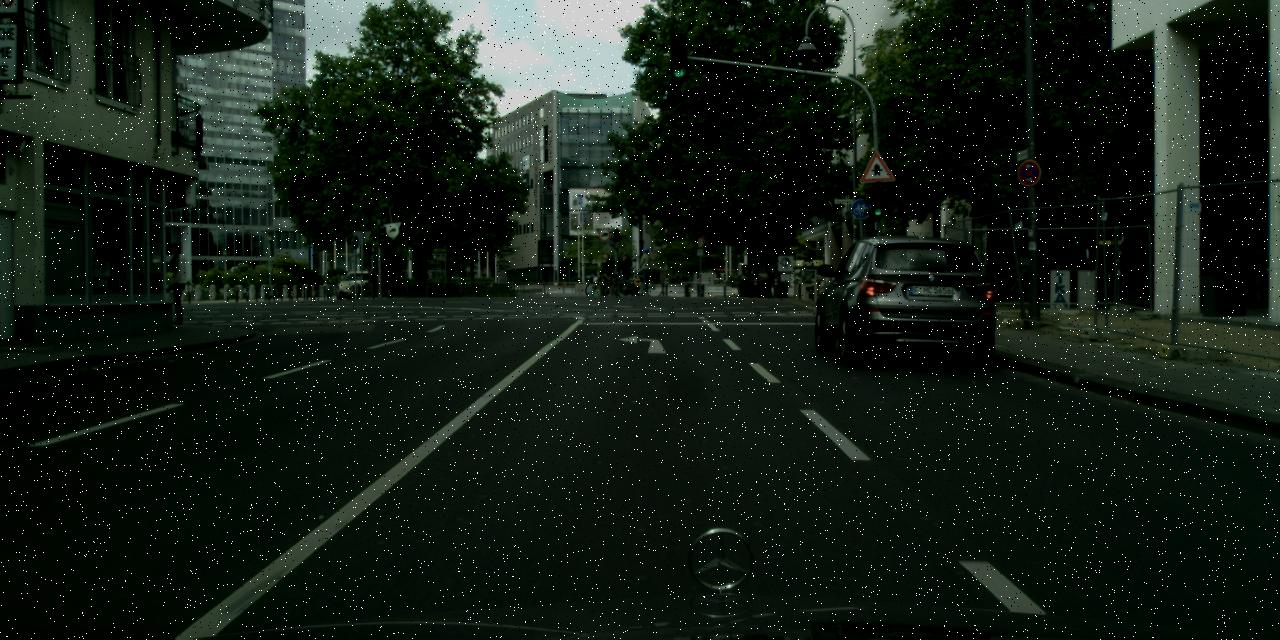ped: (160, 242, 193, 324), (636, 248, 654, 292), (617, 252, 632, 292), (598, 253, 613, 291)
